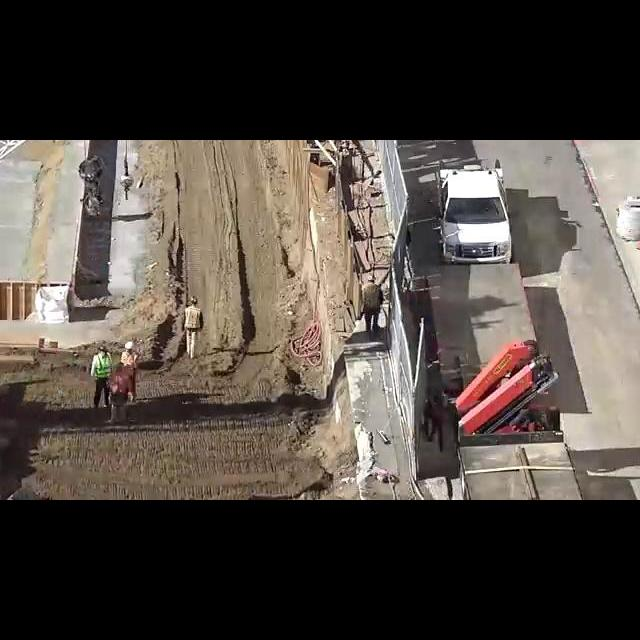Hardhat: (124, 341, 135, 349), (188, 296, 198, 304), (98, 345, 109, 352), (366, 275, 376, 280)
Person: (104, 362, 136, 424), (90, 345, 114, 410), (183, 295, 203, 359), (362, 275, 384, 332), (121, 341, 138, 403)
Safety Vest: (111, 372, 129, 394), (95, 355, 112, 377), (185, 307, 201, 328), (122, 352, 137, 366)
machinery: (450, 339, 562, 433)
vehicle: (435, 159, 515, 264)
